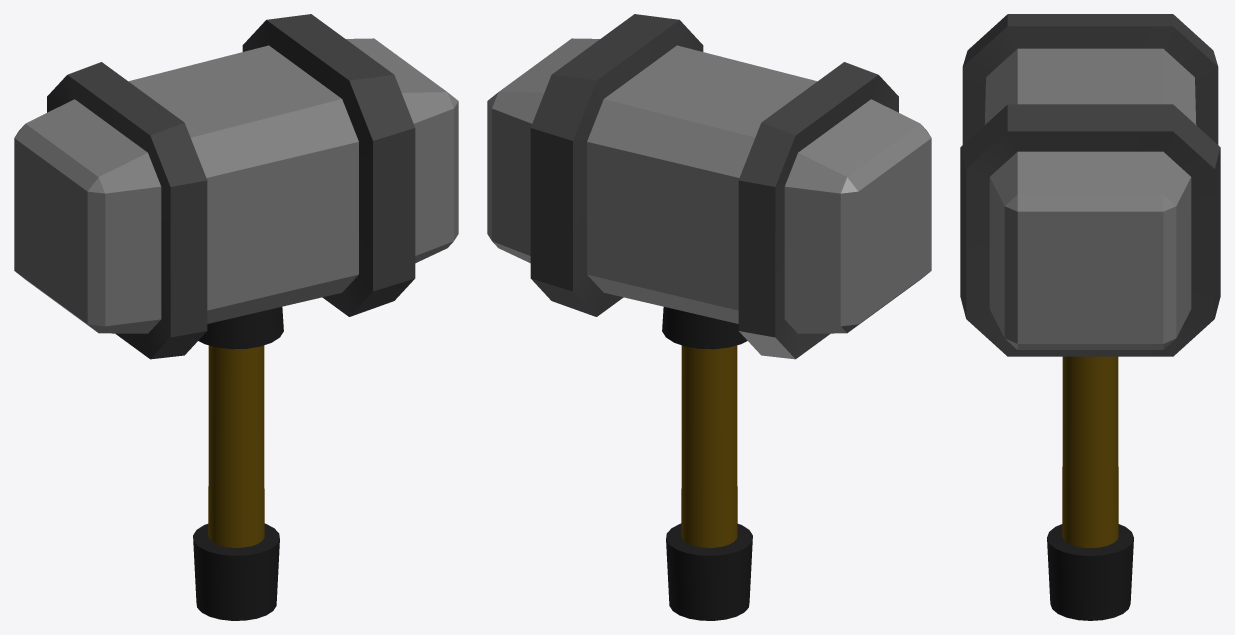
Rendered from Hammer_3D_Model.fbx.
3 renders of one model, left to right at view 1: azimuth 30°, elevation 25°; view 2: azimuth 150°, elevation 25°; view 3: azimuth 270°, elevation 25°, orthographic.
Parts seen in each view (by area): view 1: pCylinder2; view 2: pCylinder2; view 3: pCylinder2.
Part boxes in pixels (bbox=[...]): pCylinder2: bbox=[14, 14, 458, 620]; pCylinder2: bbox=[487, 14, 931, 620]; pCylinder2: bbox=[960, 14, 1220, 620].
Size of the model in its own units: 3.1 by 4.28 by 1.89.
